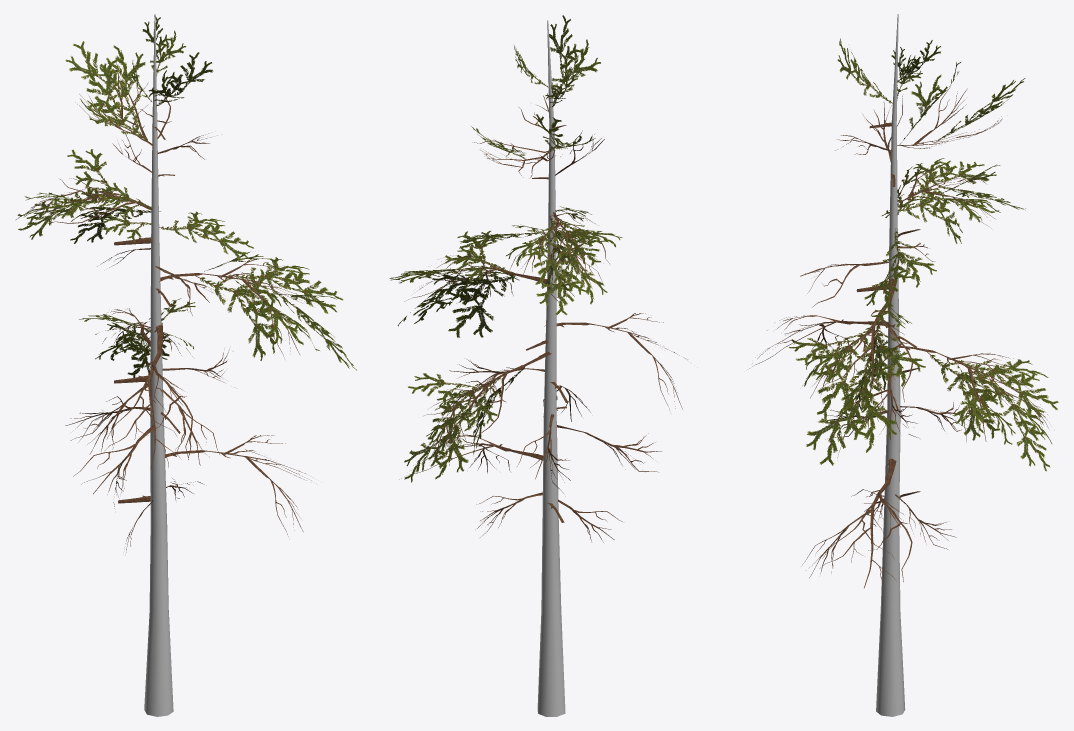
Rendered from tree_narrow_01.obj.
3 renders of one model, left to right at view 1: azimuth 30°, elevation 25°; view 2: azimuth 150°, elevation 25°; view 3: azimuth 270°, elevation 25°, orthographic.
Parts seen in each view (by area): view 1: Tree_Narrow_01; view 2: Tree_Narrow_01; view 3: Tree_Narrow_01.
Part boxes in pixels (x1,y1,x2,y2): Tree_Narrow_01: (15, 14, 356, 716); Tree_Narrow_01: (389, 15, 687, 716); Tree_Narrow_01: (749, 14, 1058, 716).
Bounding box in the file's own units: 3.44 × 8.15 × 3.37.
